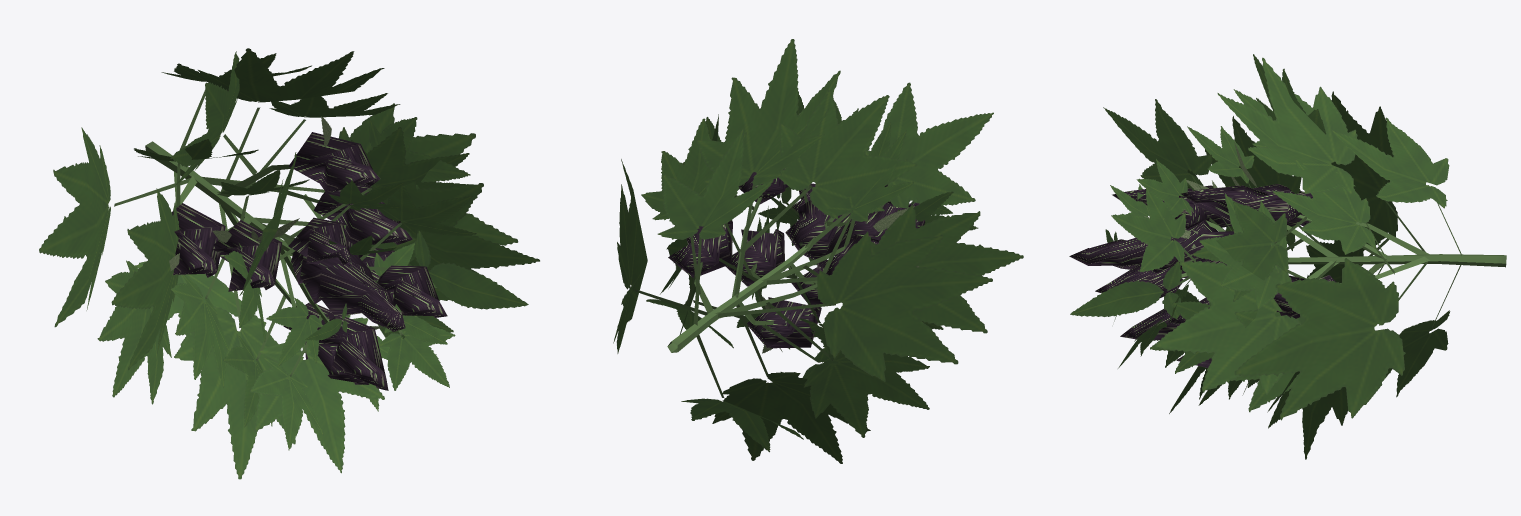
File: p_dark_kush_flowering_c0_cards.obj
The picture shows the model from 3 angles, left to right: view 1: azimuth 30°, elevation 25°; view 2: azimuth 150°, elevation 25°; view 3: azimuth 270°, elevation 25°; orthographic projection. The views are drawn at different scales.
Bounding box in the file's own units: 1.49 × 1.54 × 1.34.
Materials: 1 (1 with a texture image).
